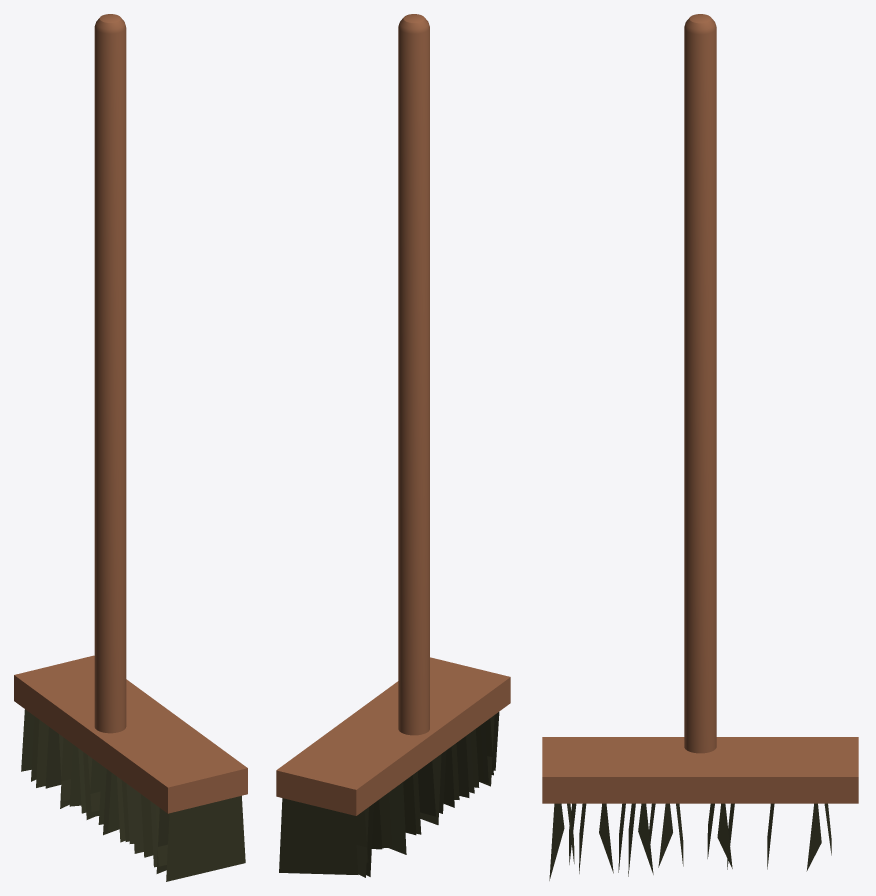
Rendered from Escoba model asset test 2.fbx.
3 renders of one model, left to right at view 1: azimuth 30°, elevation 25°; view 2: azimuth 150°, elevation 25°; view 3: azimuth 270°, elevation 25°, orthographic. The views are drawn at different scales.
Visible parts, largest first — view 1: Escoba; view 2: Escoba; view 3: Escoba.
Boxes of the visible parts, x1,y1,x2,y2 form: Escoba: (14, 14, 247, 881); Escoba: (276, 14, 510, 877); Escoba: (542, 14, 858, 880).
Size of the model in its own units: 204 by 60 by 584.
